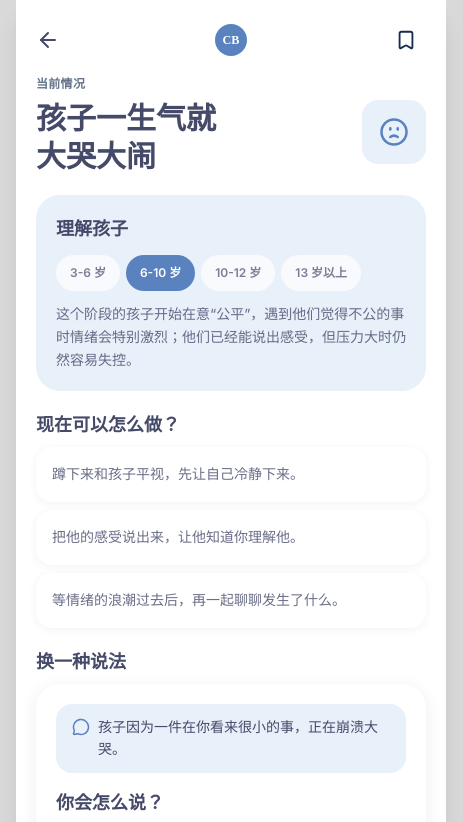
Test: SituationPage › switches understanding text when a different age tab is selected
Click the button "3-6 岁": (88, 273) [56,255,120,291]
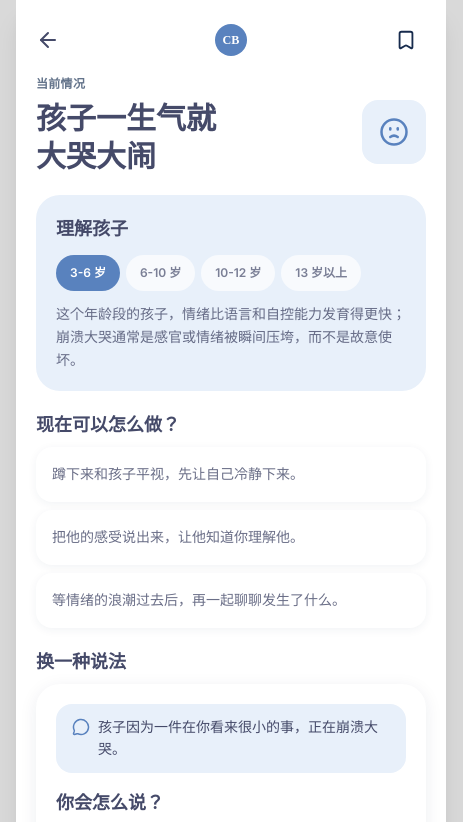
expect the text "青少年的大脑正在为独立做准备，加上荷尔蒙变化和睡眠需求增加，他们更容易烦躁，也更渴望被认真对待。" is not shown: met
expect the text "这个年龄段的孩子，情绪比语言和自控能力发育得更快；崩溃大哭通常是感官或情绪被瞬间压垮，而不是故意使坏。" is shown: met, box [56,303,406,371]
Click the button "13 岁以上": (321, 273) [281,255,361,291]
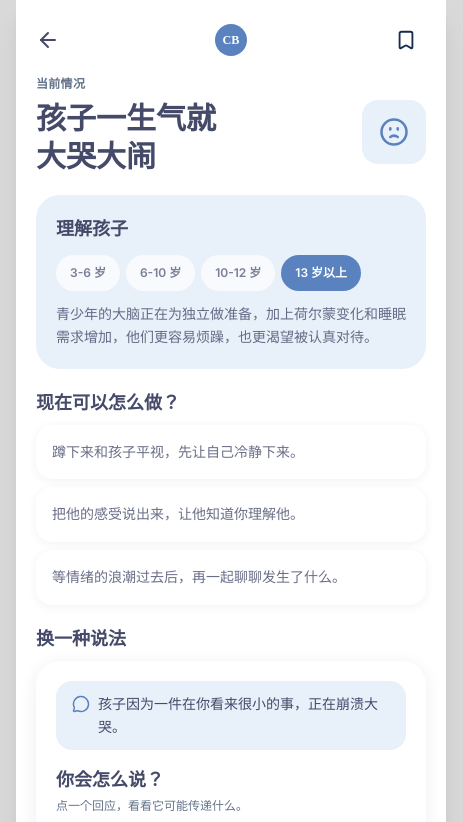
expect the text "青少年的大脑正在为独立做准备，加上荷尔蒙变化和睡眠需求增加，他们更容易烦躁，也更渴望被认真对待。" is shown: met, box [56,303,406,348]
expect the text "这个年龄段的孩子，情绪比语言和自控能力发育得更快；崩溃大哭通常是感官或情绪被瞬间压垮，而不是故意使坏。" is gone: met
